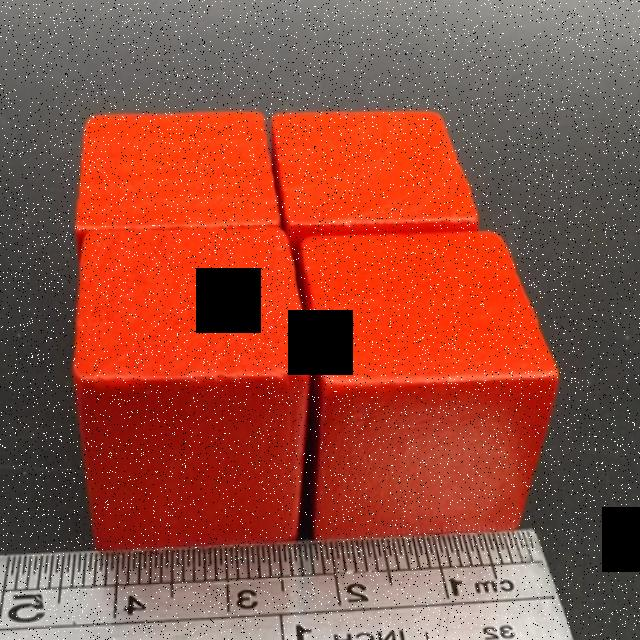red cube: (297, 231, 561, 537), (71, 229, 310, 552), (274, 108, 479, 270), (74, 109, 281, 259)
